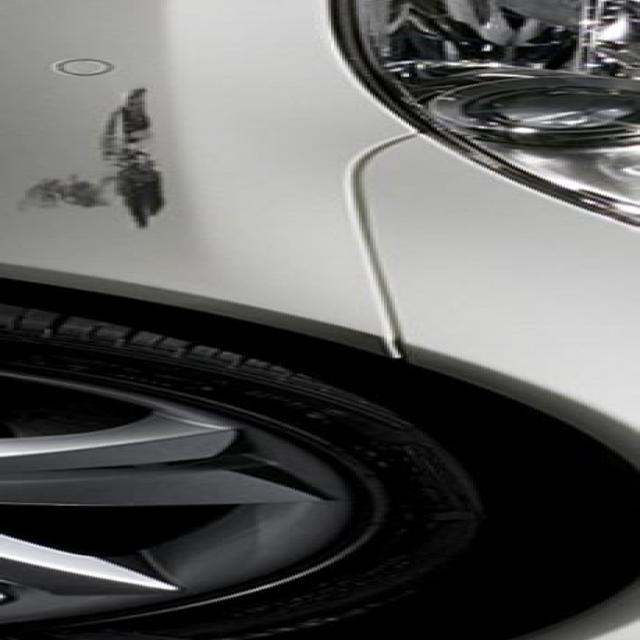scratch: (2, 75, 226, 258)
